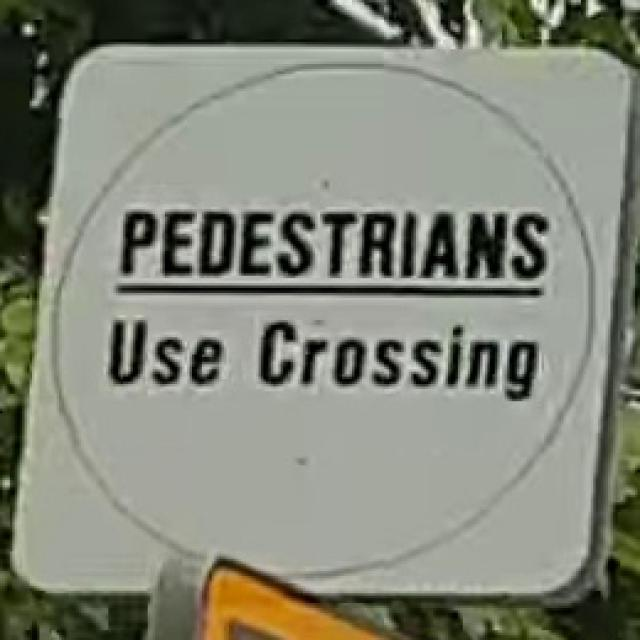pedestriancrossing_sign: (10, 37, 638, 608)
